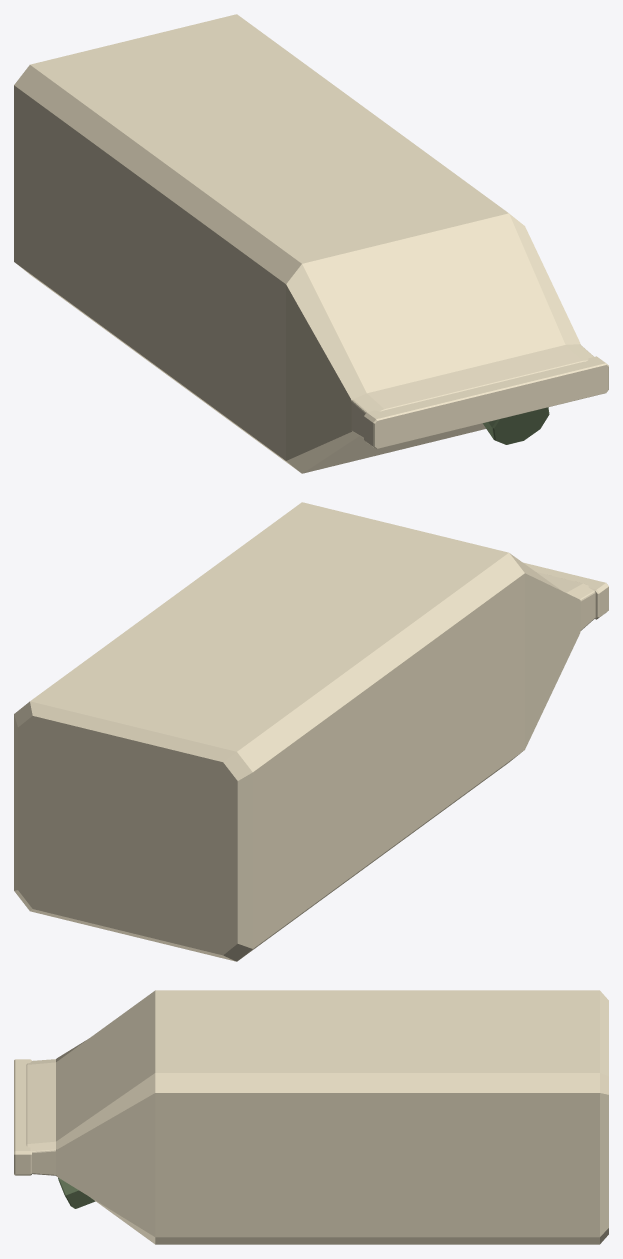
File: coconut_water.glb
3 views of the same model, one above another, from view 1: azimuth 30°, elevation 25°; view 2: azimuth 150°, elevation 25°; view 3: azimuth 270°, elevation 25° (orthographic). The views are drawn at different scales.
Parts seen in each view (by area): view 1: coconut_water; view 2: coconut_water; view 3: coconut_water.
Part boxes in pixels (<box>): coconut_water: <box>14,14,608,473</box>; coconut_water: <box>14,502,608,961</box>; coconut_water: <box>14,990,608,1244</box>.
Bounding box in the file's own units: 0.075 × 0.0674 × 0.198.
